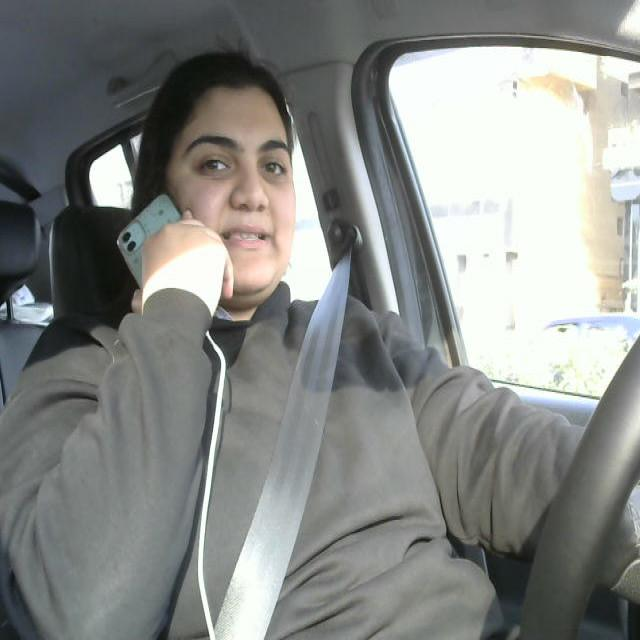mobile use: (113, 188, 227, 338)
